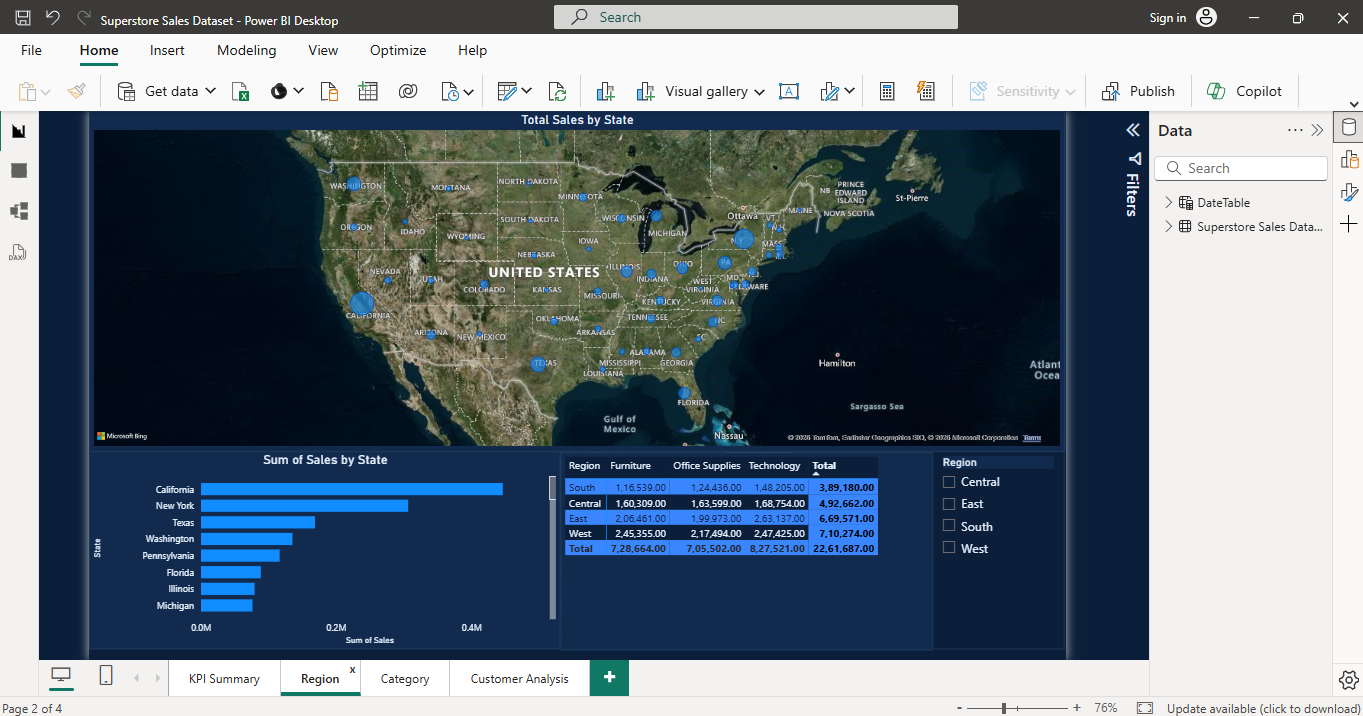

The page's visual inventory and layout, read from the dashboard file:
{"tool":"powerbi","page":{"name":"Region","canvas":[1280,720],"ordinal":1},"visuals":[{"type":"map","fields":{"Category":["Superstore Sales Dataset.State"],"Size":["DateTable.Total Sales"]},"box":[0,0,1278.7,446.1],"z":0},{"type":"pivotTable","fields":{"Rows":["Superstore Sales Dataset.Region"],"Columns":["Superstore Sales Dataset.Category"],"Values":["DateTable.Total Sales"]},"box":[617.9,447.2,487.7,259],"z":1000},{"type":"slicer","fields":{"Values":["Superstore Sales Dataset.Region"]},"box":[1105.6,445.7,173.7,259],"z":2000},{"type":"clusteredBarChart","fields":{"Category":["Superstore Sales Dataset.State"],"Y":["Sum(Superstore Sales Dataset.Sales)"]},"box":[0,445.7,617.9,259],"z":3000}]}

Visuals, with their boxes on the page's 1280x720 design canvas (x1, y1, x2, y2). These are canvas units, not pixel positions in the 1363x716 screenshot, which may show the page scaled, cropped or inside an application window:
map - Superstore Sales Dataset.State x DateTable.Total Sales: 0:0:1279:446
pivotTable - Superstore Sales Dataset.Region x Superstore Sales Dataset.Category: 618:447:1106:706
slicer - Superstore Sales Dataset.Region: 1106:446:1279:705
clusteredBarChart - Superstore Sales Dataset.State x Sum(Superstore Sales Dataset.Sales): 0:446:618:705
